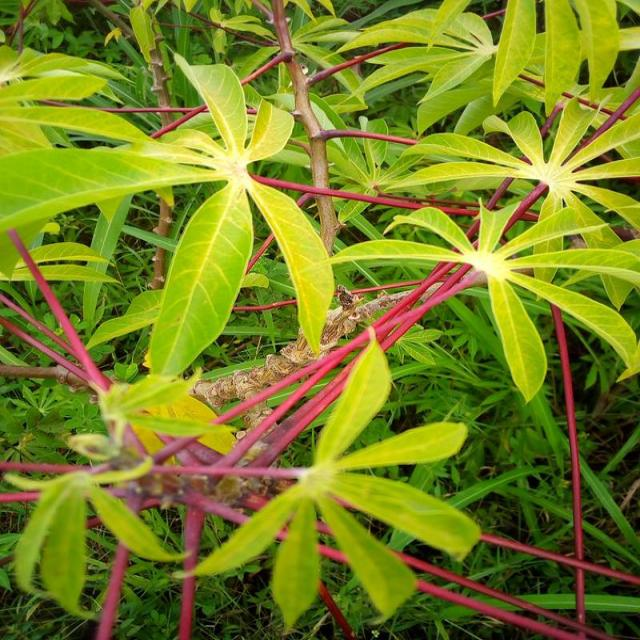cassava leaf: (174, 326, 481, 632), (147, 178, 254, 378), (246, 172, 334, 355)
